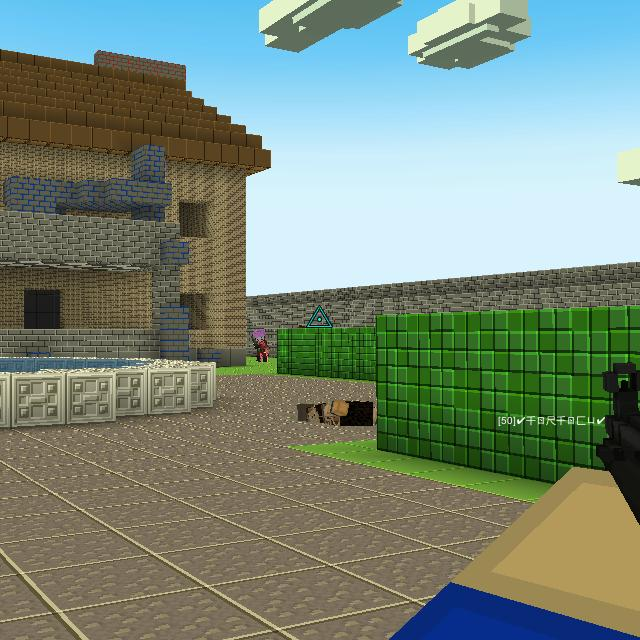enemy: (253, 327, 266, 362)
